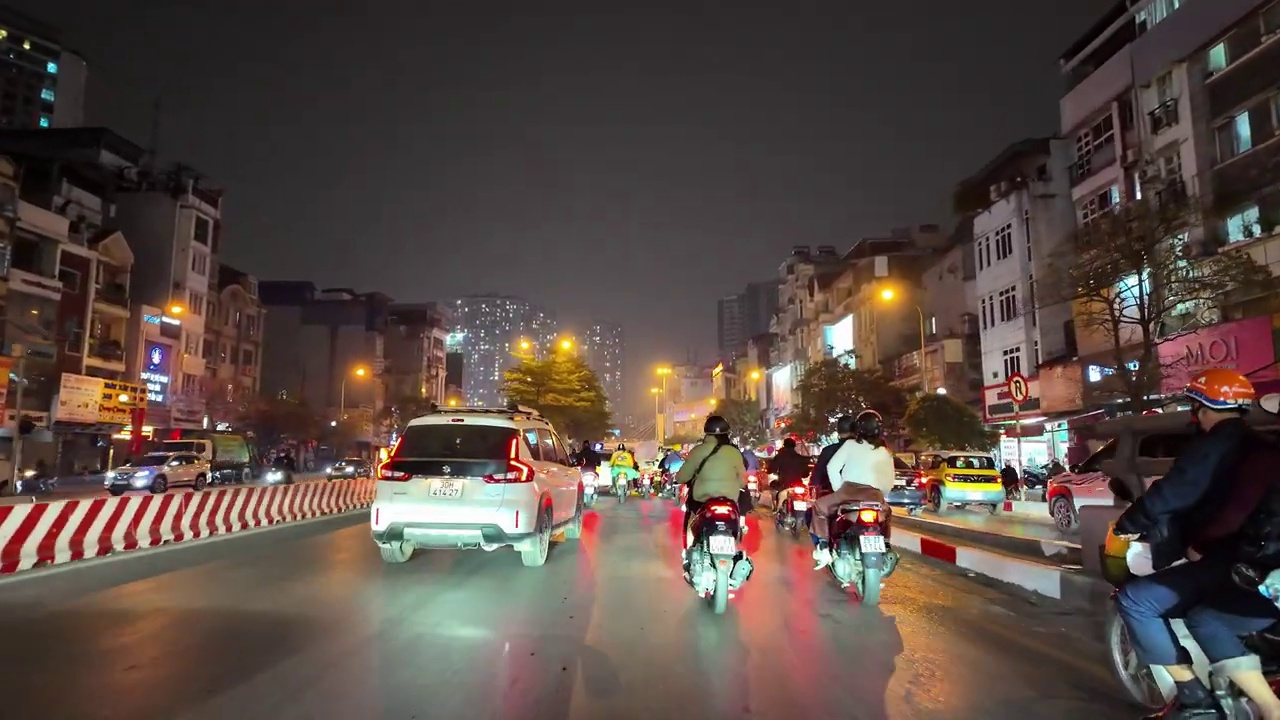acesa: (870, 282, 903, 310), (647, 362, 675, 392), (553, 333, 579, 362), (348, 360, 375, 385)
